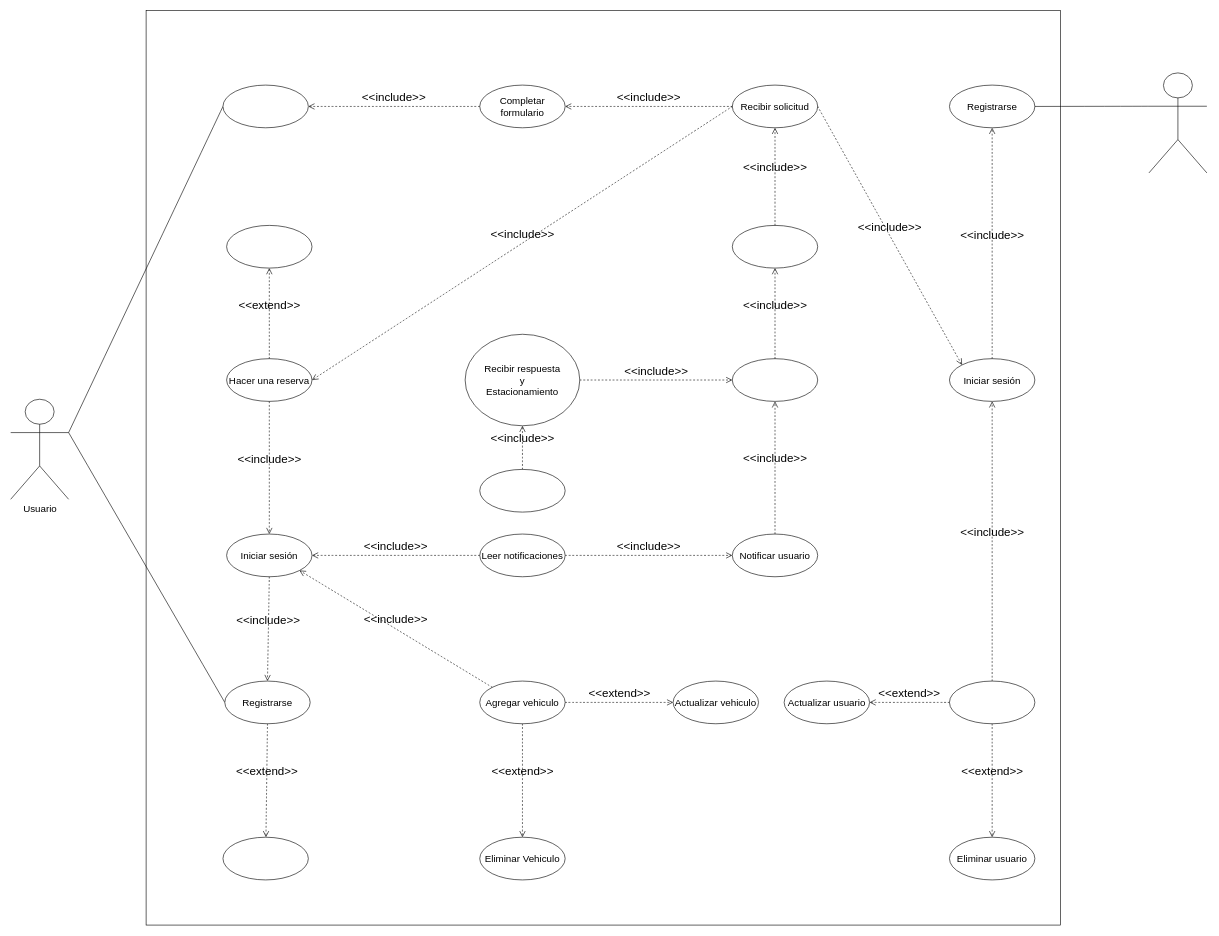
The diagram is 1219 pixels wide and 936 high, and some of its shapes have lost their labels. Here are the shapes that lost their labels. From the top down, the box of each, then its label:
(222, 84, 308, 128): Leer QR
(1148, 72, 1207, 173): Administrador
(226, 225, 312, 268): Cancelar reserva
(732, 225, 818, 268): Asignar un espacio
(732, 358, 818, 401): Responder solicitud
(479, 469, 565, 512): Marcar salida
(949, 680, 1035, 724): Crear usuario
(222, 837, 308, 880): Recuperar contraseña
